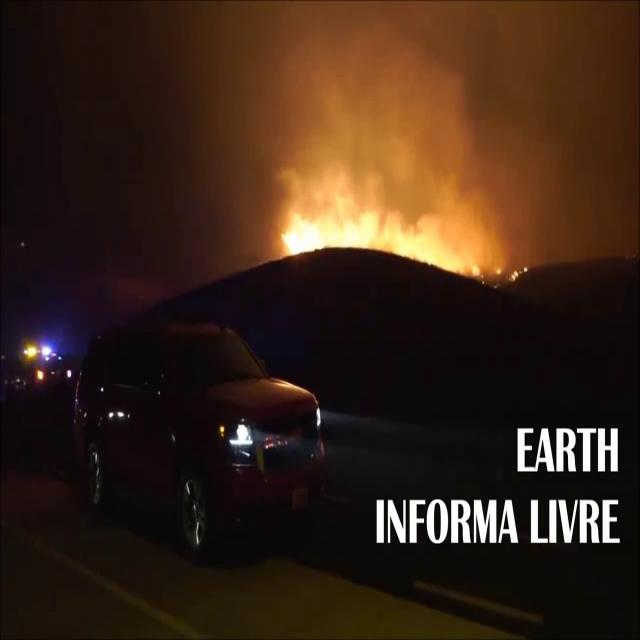Fire: (278, 210, 486, 288), (509, 266, 529, 282), (495, 268, 503, 274)
